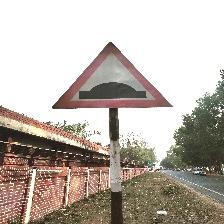Speed-breaker: (56, 46, 166, 107)
